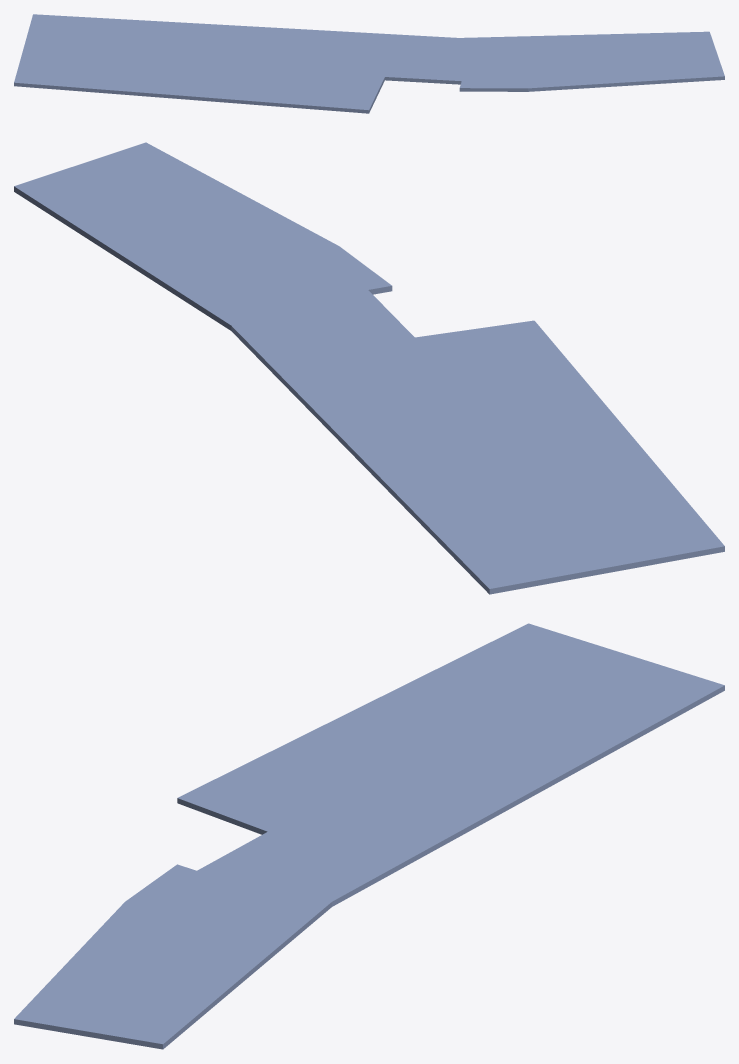
The model's file is MainFloor1.gltf.
3 views of the same model, one above another, from view 1: azimuth 30°, elevation 25°; view 2: azimuth 150°, elevation 25°; view 3: azimuth 270°, elevation 25° (orthographic). The views are drawn at different scales.
Bounding box in the file's own units: 342 × 2 × 244.
